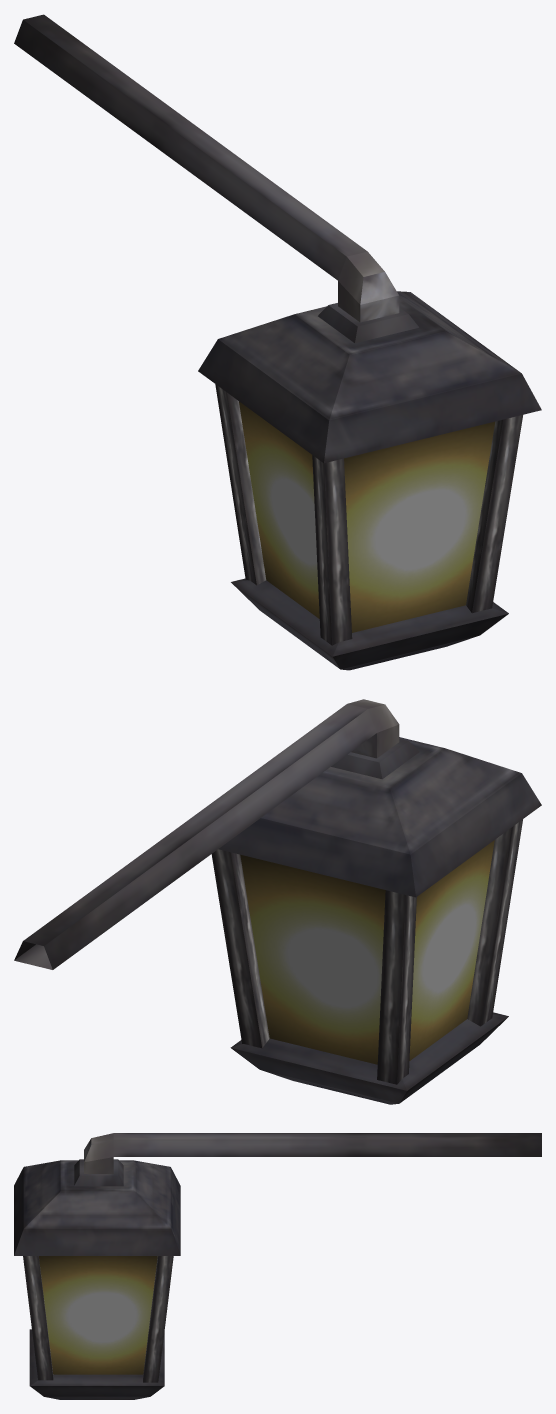
File: fanasty_mod_door_light01.fbx
3 views of the same model, one above another, from view 1: azimuth 30°, elevation 25°; view 2: azimuth 150°, elevation 25°; view 3: azimuth 270°, elevation 25° (orthographic). The views are drawn at different scales.
Parts seen in each view (by area): view 1: door_light_01; view 2: door_light_01; view 3: door_light_01.
Part boxes in pixels (bbox=[...]): door_light_01: bbox=[14, 14, 541, 670]; door_light_01: bbox=[14, 699, 541, 1104]; door_light_01: bbox=[14, 1133, 541, 1399].
Size of the model in its own units: 0.3792 by 0.6226 by 1.2.
